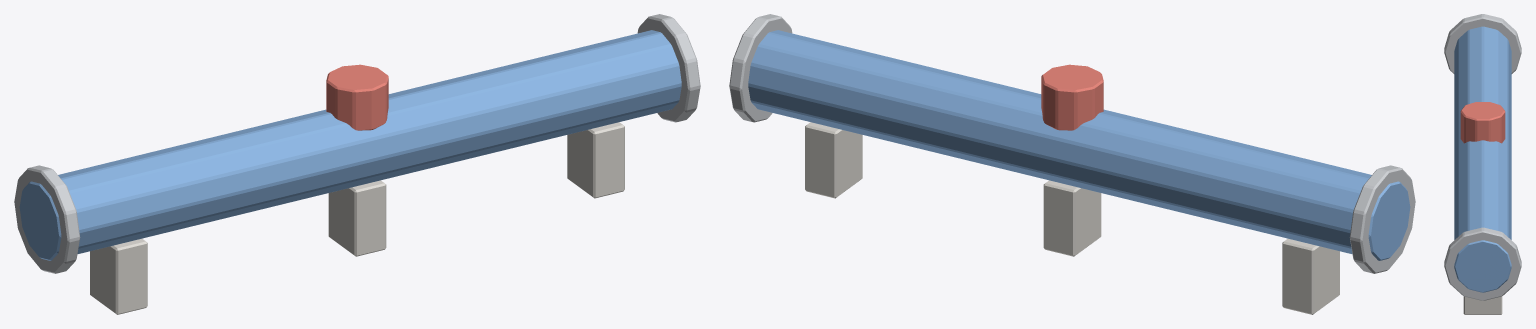
3 renders of one model, left to right at view 1: azimuth 30°, elevation 25°; view 2: azimuth 150°, elevation 25°; view 3: azimuth 270°, elevation 25°, orthographic. The views are drawn at different scales.
Parts seen in each view (by area): view 1: 管体, 支架.001, 法兰, 阀门; view 2: 管体, 支架.001, 法兰, 阀门; view 3: 管体, 法兰, 阀门, 支架.001.
Boxes of the visible parts, x1,y1,x2,y2 form: 管体: (19, 30, 681, 260); 支架.001: (90, 122, 624, 314); 法兰: (14, 14, 700, 273); 阀门: (326, 64, 388, 130); 管体: (748, 30, 1410, 260); 支架.001: (805, 122, 1339, 314); 法兰: (729, 14, 1415, 273); 阀门: (1041, 64, 1103, 130); 管体: (1454, 26, 1511, 292); 法兰: (1444, 14, 1521, 300); 阀门: (1460, 102, 1505, 143); 支架.001: (1463, 296, 1502, 314).
Bounding box in the file's own units: 800 × 200 × 119.
